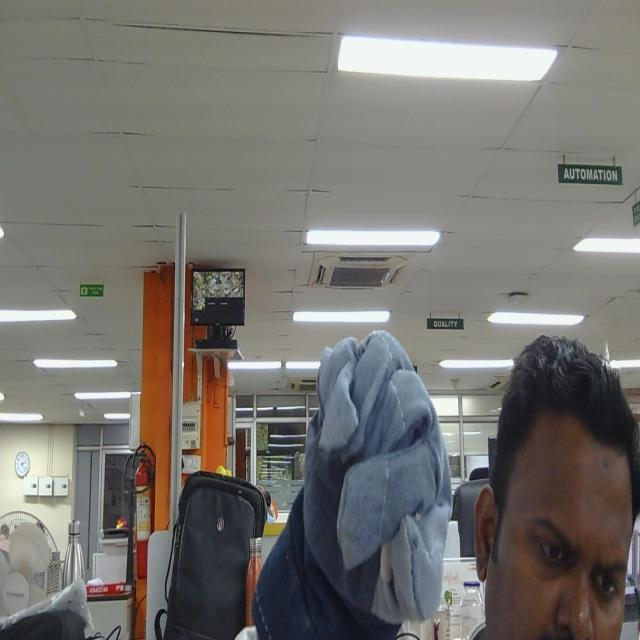Gloves-Detection: (246, 326, 453, 640)
